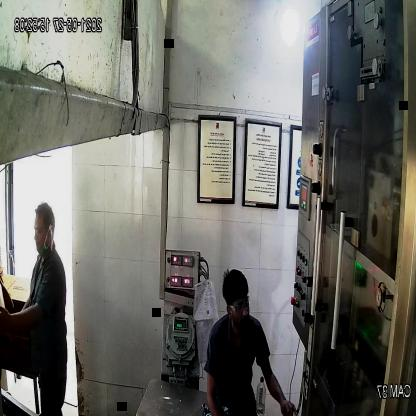goggles: (223, 294, 252, 315)
